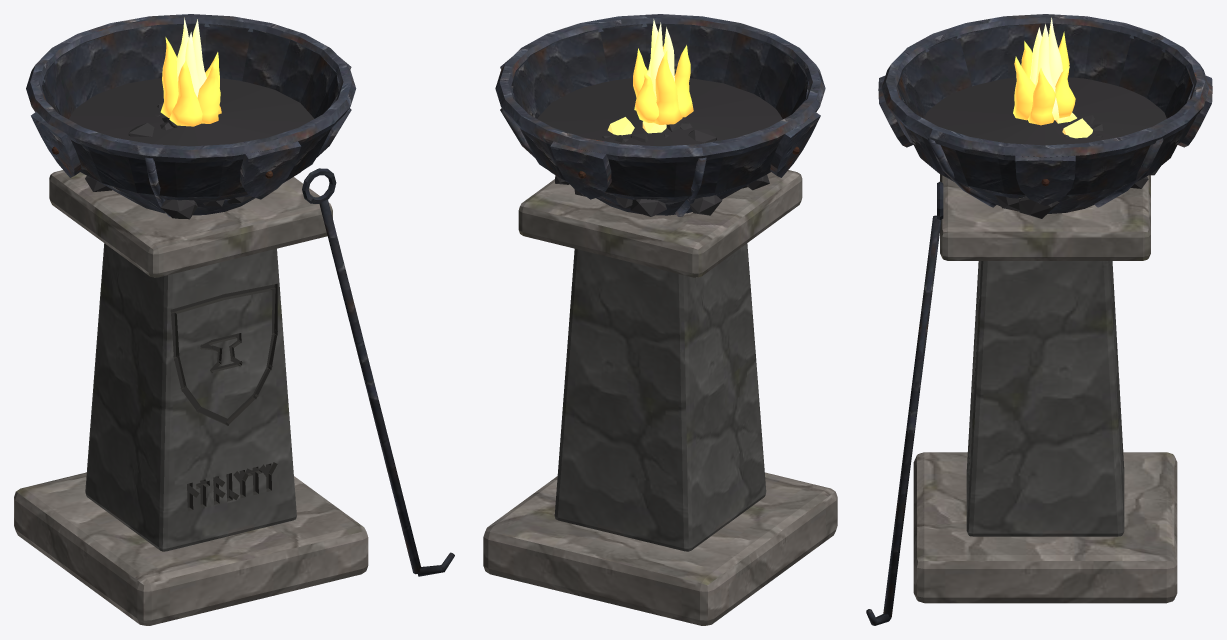
File: hs_watch_brazier.glb
3 renders of one model, left to right at view 1: azimuth 30°, elevation 25°; view 2: azimuth 150°, elevation 25°; view 3: azimuth 270°, elevation 25°, orthographic.
Parts seen in each view (by area): view 1: model; view 2: model; view 3: model.
Part boxes in pixels (x1,y1,x2,y2): model: [14, 14, 454, 625]; model: [483, 14, 837, 625]; model: [866, 14, 1212, 625].
Bounding box in the file's own units: 0.6974 × 1.12 × 0.657.
Materials: 11 (5 with a texture image).
